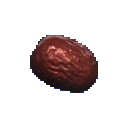gd: (15, 22, 111, 114)
